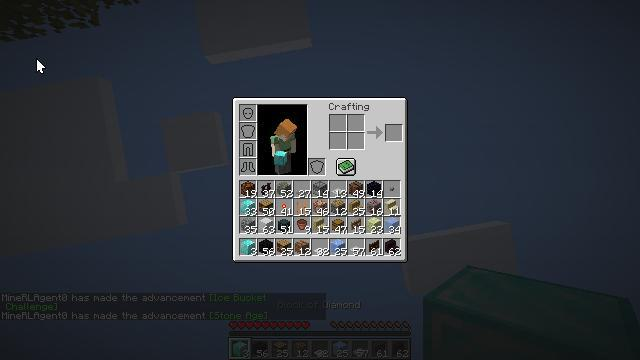cursor: (36, 58, 46, 74)
